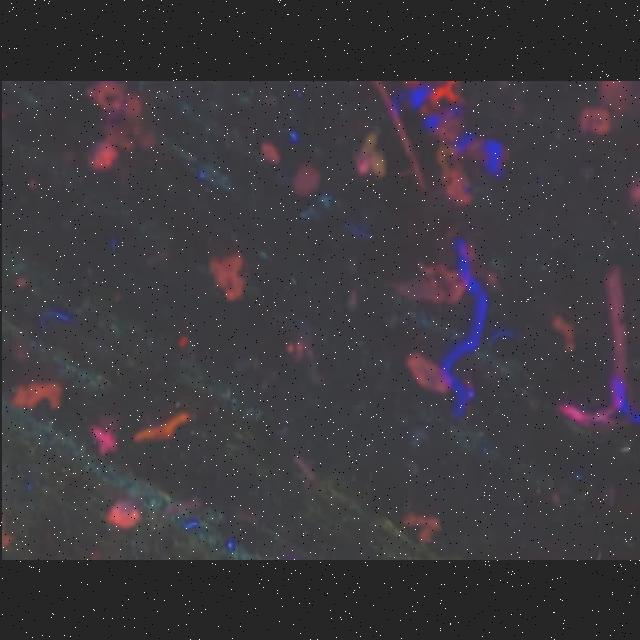Fragment: (84, 81, 152, 170), (207, 254, 244, 301)
